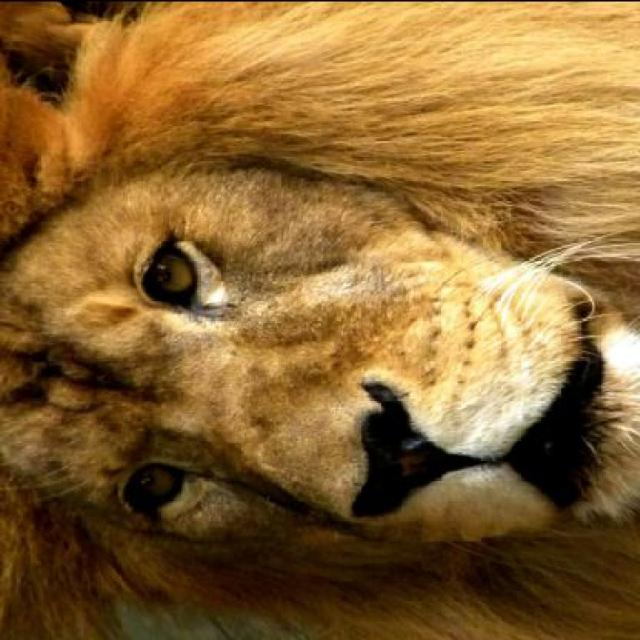Lion: (6, 1, 639, 617)
